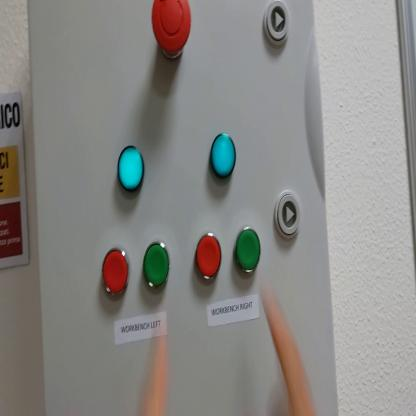hand: (260, 283, 317, 414), (137, 320, 174, 414)
left green button: (142, 242, 170, 292)
left red button: (104, 251, 129, 296)
right green button: (237, 228, 260, 276)
right red button: (199, 235, 223, 280)
